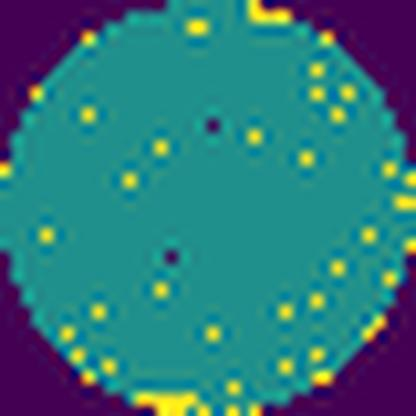Edge-Loc: (127, 389, 210, 416), (243, 0, 290, 32)
